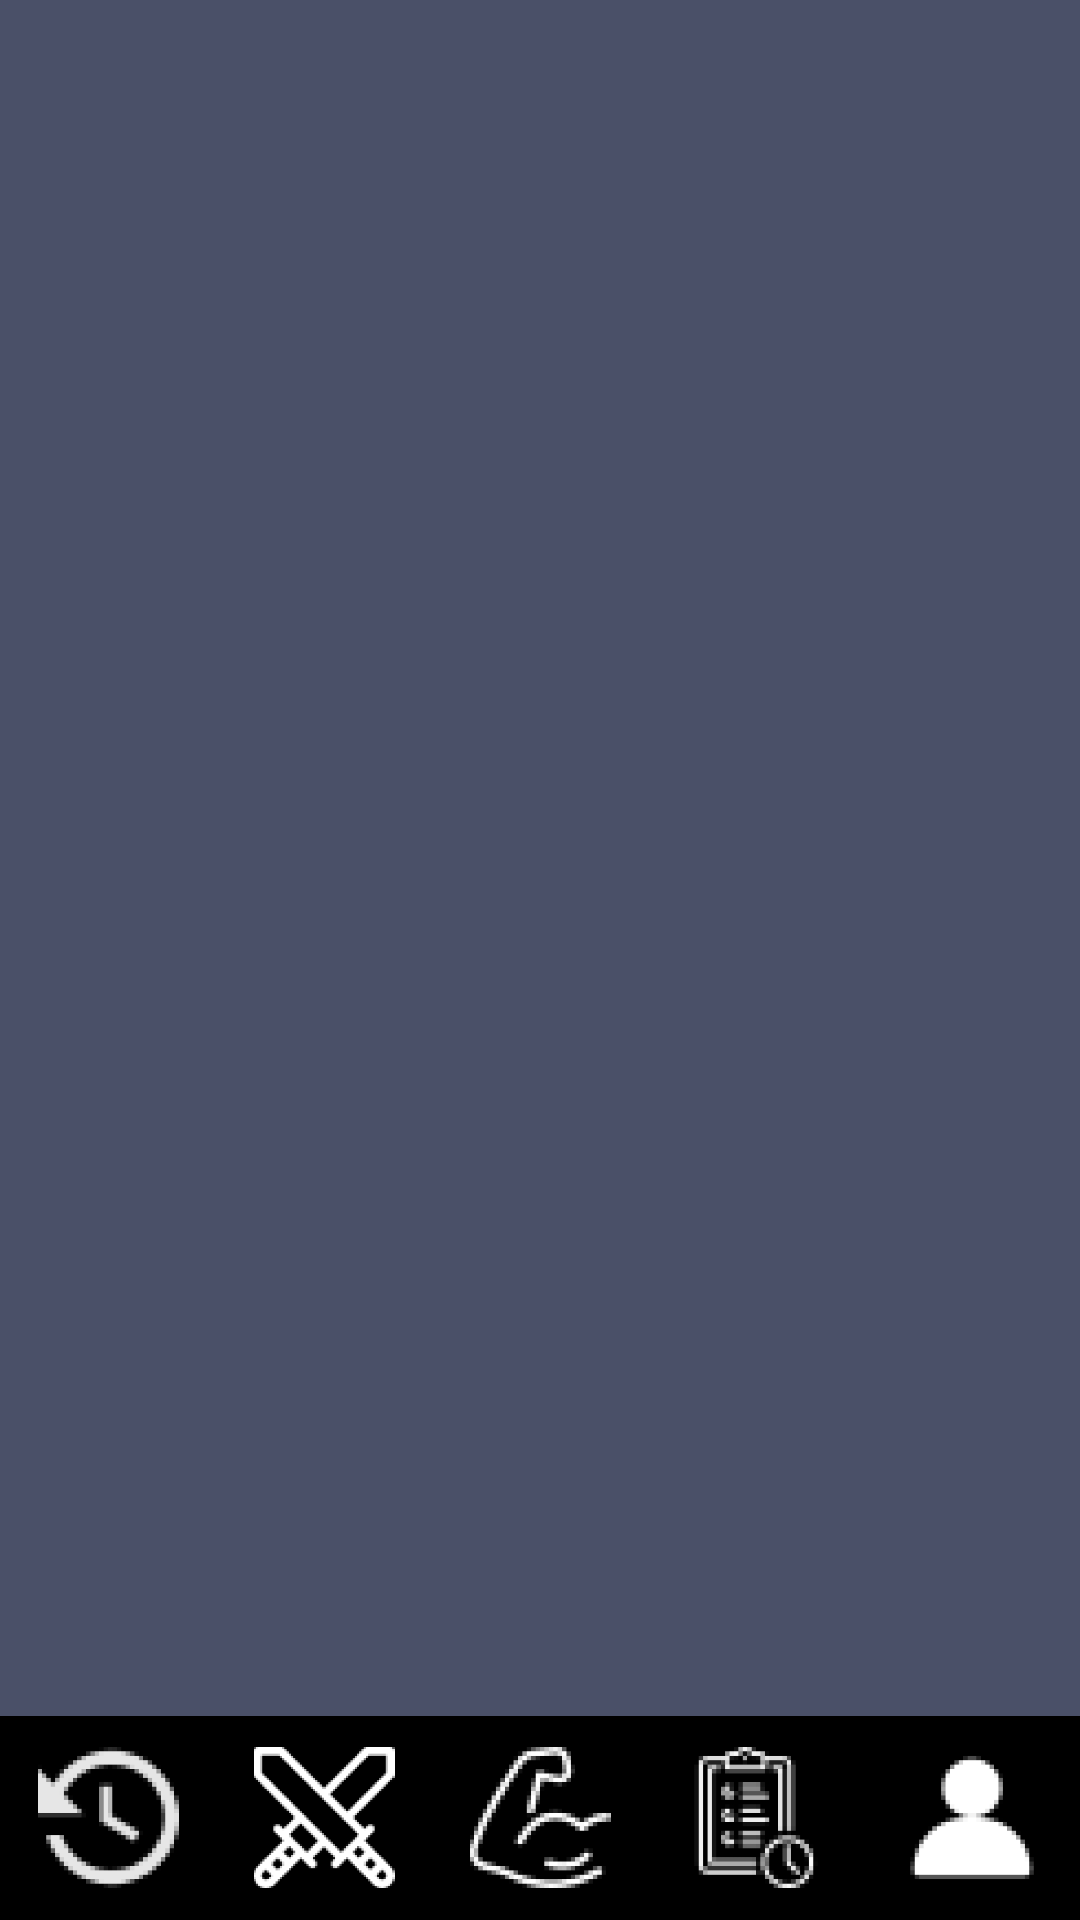

Where to tap for icons on this 1080px×1920px app screen, as point (x, y):
clock: point (108, 1817)
muscle: point (540, 1817)
profil: point (972, 1817)
swords: point (324, 1817)
